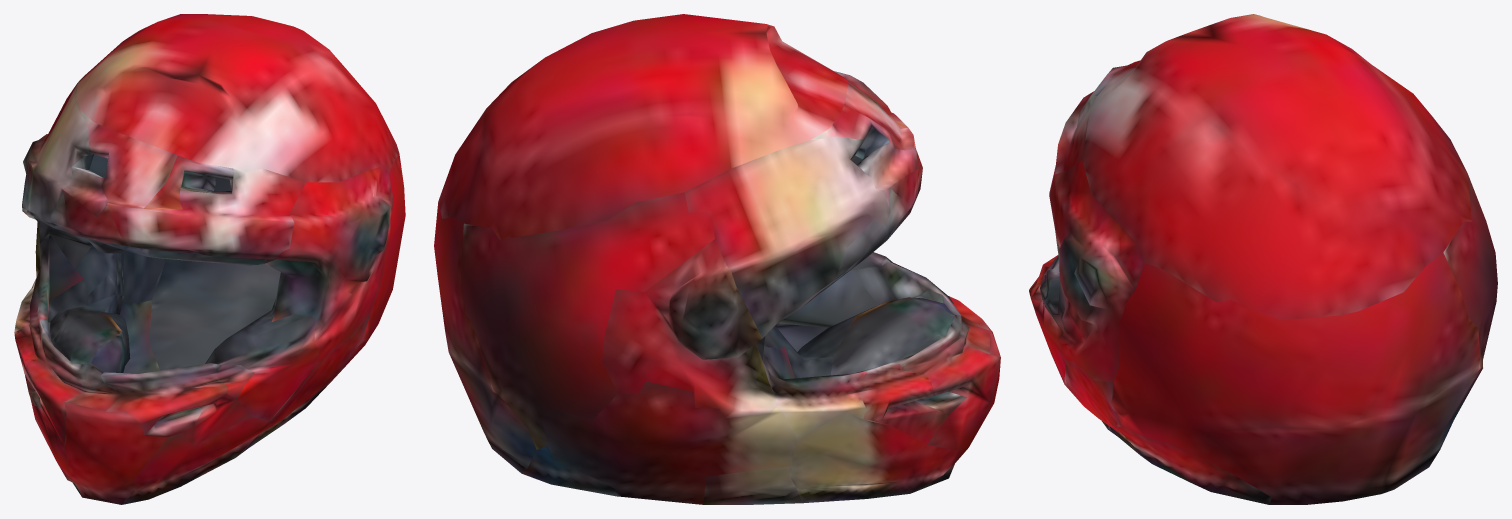
The picture shows the model from 3 angles, left to right: view 1: azimuth 30°, elevation 25°; view 2: azimuth 150°, elevation 25°; view 3: azimuth 270°, elevation 25°; orthographic projection. The views are drawn at different scales.
Size of the model in its own units: 0.493 by 0.4483 by 0.4453.
1 material, 1 textured.
